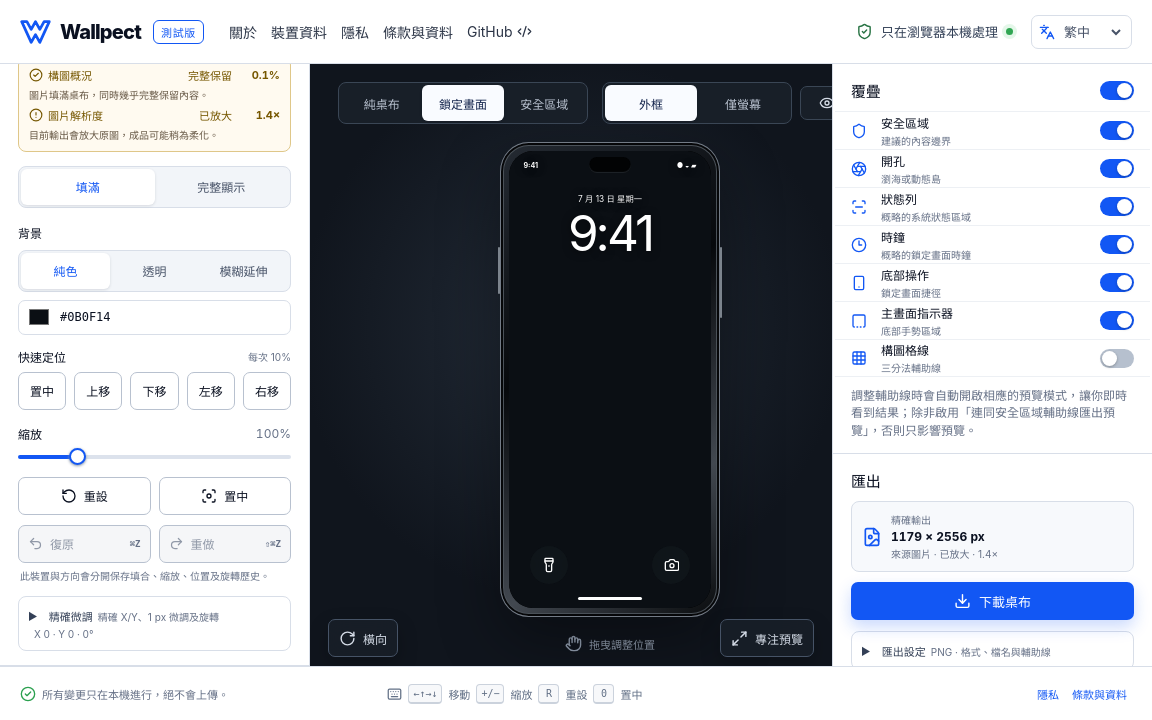
Test case: editor controls › focuses the preview without changing composition and restores the editor with Escape
(page scrolled)
Expected: the element with class "left-rail" is shown, x1=0 y1=64 x2=310 y2=666
Expected: the element that starts with "精確微調" is shown, x1=18 y1=596 x2=291 y2=651
Click the text "精確微調". click: [71, 617]
box: x1=49 y1=610 x2=93 y2=624
(page scrolled)
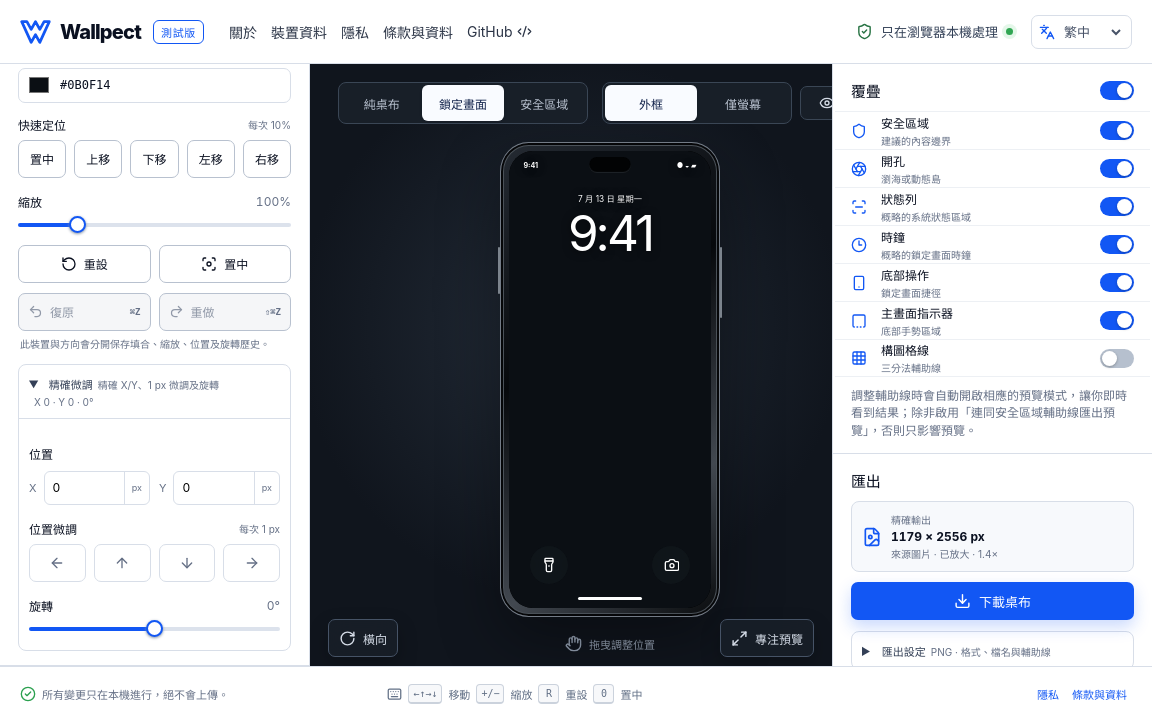
Click the button named "向右移動 1 px". click: [252, 563]
box: x1=223 y1=544 x2=280 y2=582
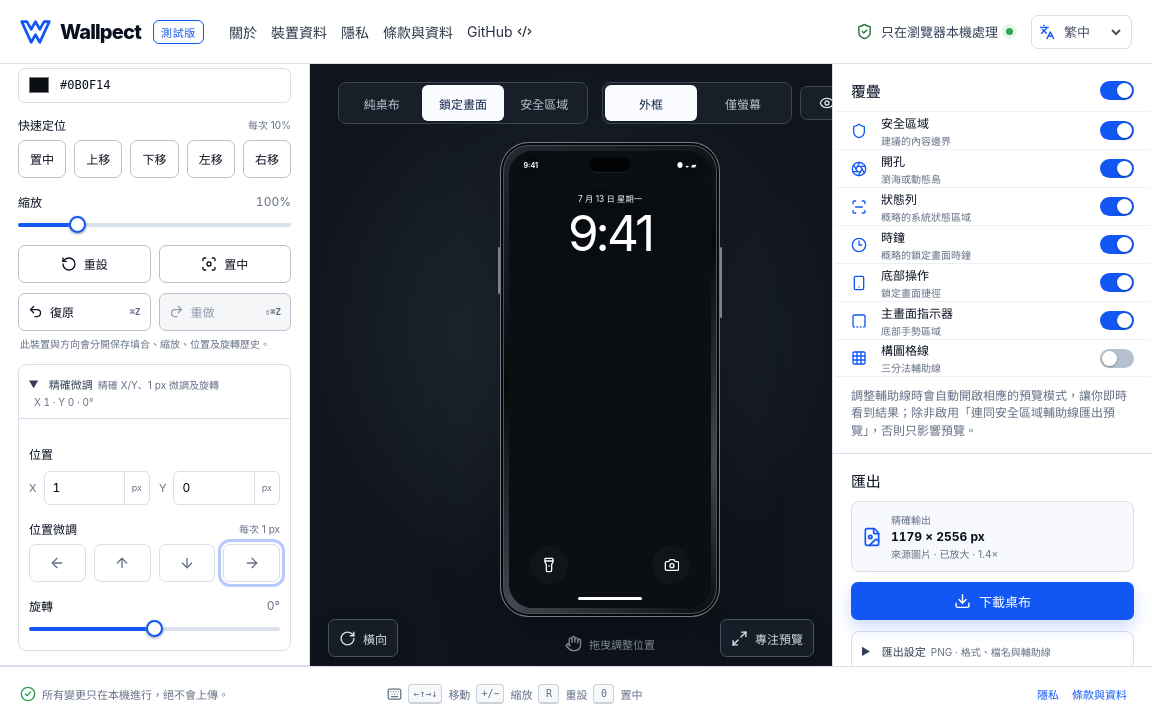
Now the number field labelled "X px" holds "1", box x1=44 y1=472 x2=124 y2=504
Click the button "專注預覽". click: [767, 638]
box: x1=720 y1=619 x2=814 y2=657
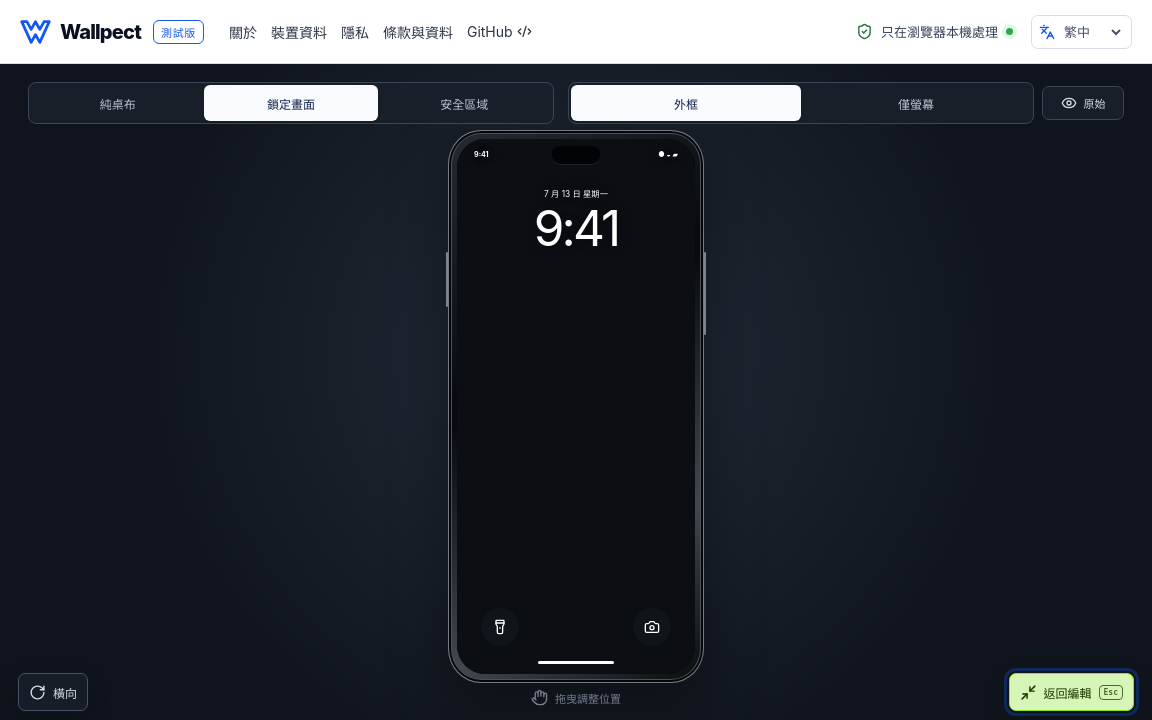
Now the element with class "app-shell" has class "is-preview-focused"
Now the button "返回編輯 Esc" is pressed, box x1=1008 y1=673 x2=1134 y2=711
Press Escape
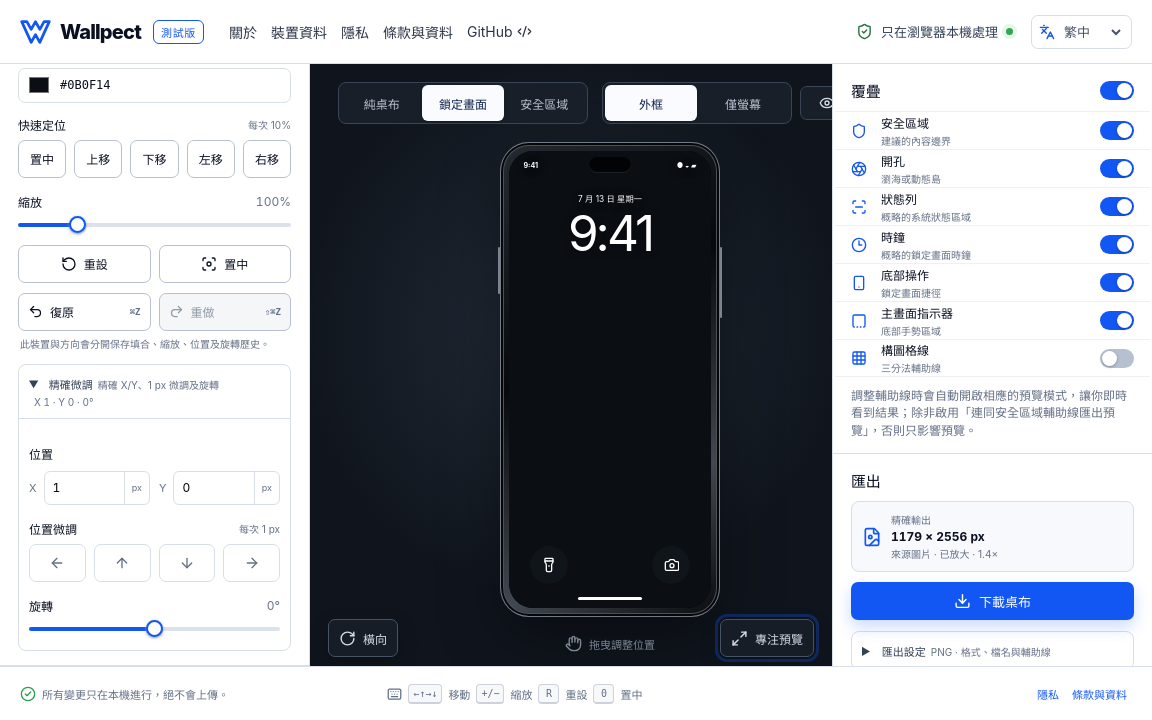
Now the number field labelled "X px" holds "1", box x1=44 y1=472 x2=124 y2=504
